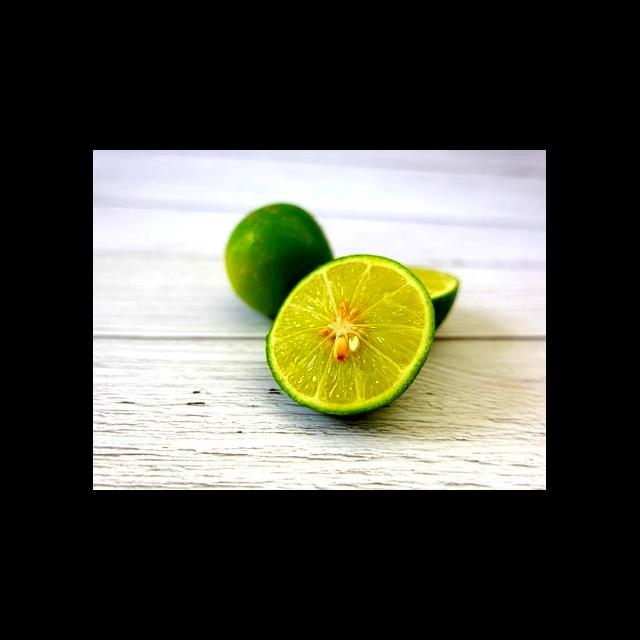lime: (218, 199, 359, 320)
